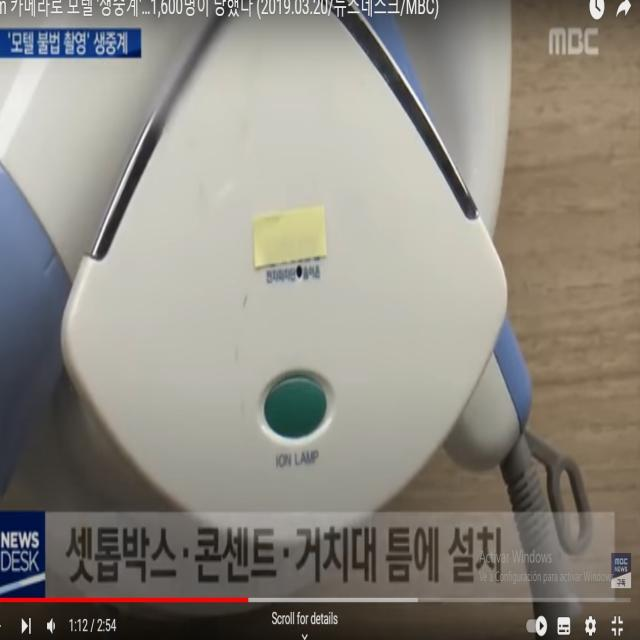hidden camera: (294, 265, 304, 284)
